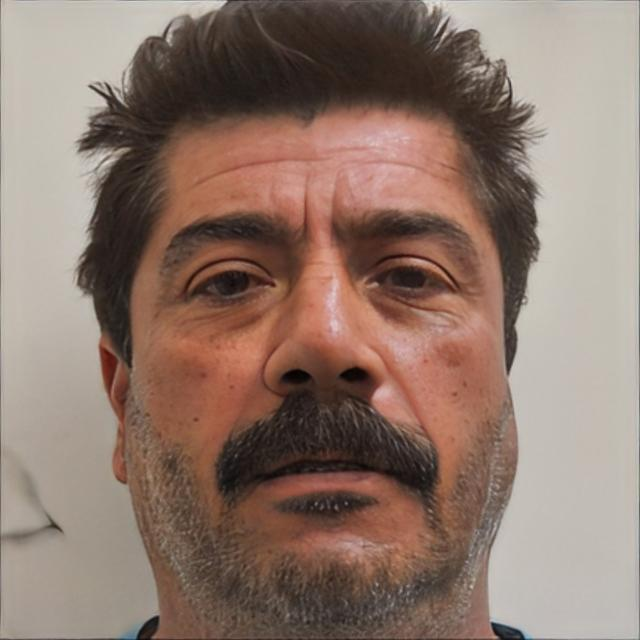anger: (121, 74, 512, 640)
